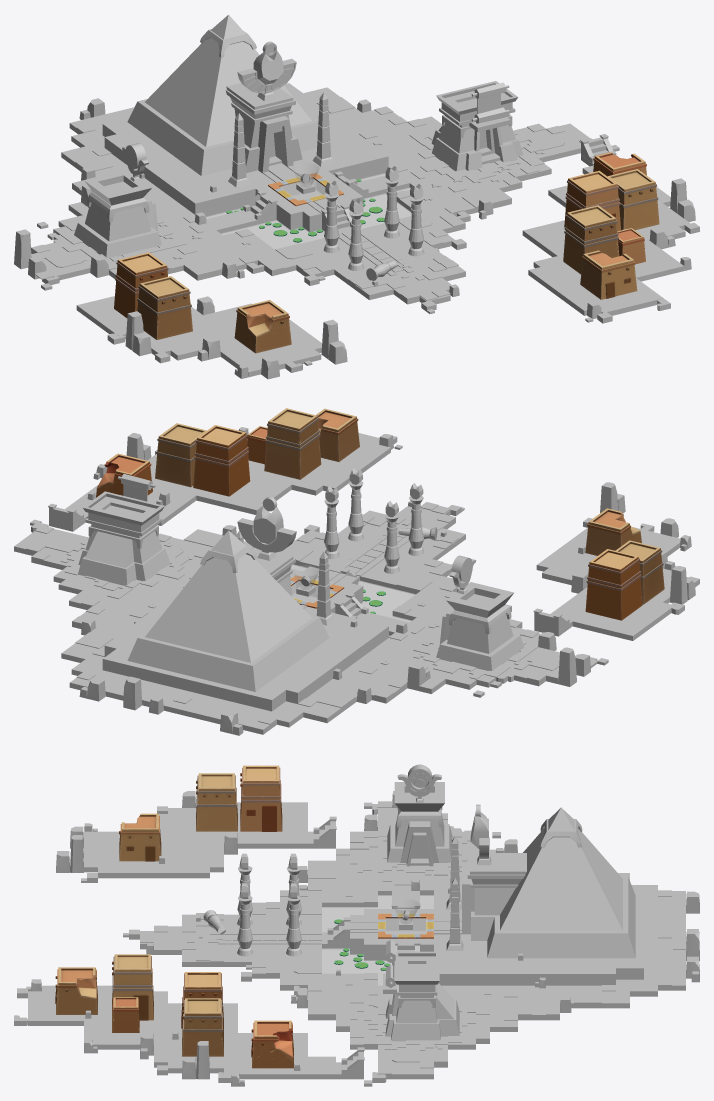
The model's file is Egypt.fbx.
3 views of the same model, one above another, from view 1: azimuth 30°, elevation 25°; view 2: azimuth 150°, elevation 25°; view 3: azimuth 270°, elevation 25° (orthographic).
Parts seen in each view (by area): view 1: nen1, Nha_Meo, NhaPhu1, O_Nen_L1, O1, Da1, Nha_Sach, Nha_Tien, Tru1, Water, CauThanh1, GachDai1 (+2 smaller); view 2: nen1, Nha_Meo, NhaPhu1, O_Nen_L1, O1, Da1, Nha_Sach, Nha_Tien, Tru1, CauThanh1, Water, GachDai1; view 3: nen1, Nha_Meo, NhaPhu1, O_Nen_L1, O1, Da1, Nha_Sach, Nha_Tien, Tru1, Water, CauThanh1, GachDai1 (+1 smaller).
Boxes of the visible parts, left/top/right/bottom form: nen1: left=31, top=83, right=690, bottom=377; Nha_Meo: left=127, top=14, right=318, bottom=175; NhaPhu1: left=114, top=152, right=659, bottom=353; O_Nen_L1: left=31, top=97, right=592, bottom=300; O1: left=102, top=90, right=388, bottom=232; Da1: left=14, top=98, right=699, bottom=379; Nha_Sach: left=431, top=81, right=523, bottom=171; Nha_Tien: left=74, top=143, right=161, bottom=258; Tru1: left=228, top=92, right=424, bottom=280; Water: left=206, top=173, right=411, bottom=249; CauThanh1: left=243, top=134, right=616, bottom=228; GachDai1: left=263, top=165, right=401, bottom=275; nen1: left=14, top=433, right=680, bottom=734; Nha_Meo: left=127, top=497, right=329, bottom=691; NhaPhu1: left=96, top=408, right=664, bottom=620; O_Nen_L1: left=26, top=502, right=597, bottom=724; O1: left=102, top=566, right=388, bottom=711; Da1: left=30, top=427, right=699, bottom=735; Nha_Sach: left=78, top=474, right=170, bottom=585; Nha_Tien: left=436, top=555, right=524, bottom=670; Tru1: left=235, top=468, right=437, bottom=625; CauThanh1: left=48, top=503, right=569, bottom=631; Water: left=291, top=564, right=415, bottom=636; GachDai1: left=300, top=536, right=409, bottom=608; nen1: left=28, top=802, right=685, bottom=1079; Nha_Meo: left=462, top=804, right=635, bottom=958; NhaPhu1: left=55, top=765, right=293, bottom=1068; O_Nen_L1: left=140, top=801, right=686, bottom=1074; O1: left=350, top=879, right=643, bottom=985; Da1: left=14, top=775, right=699, bottom=1086; Nha_Sach: left=383, top=940, right=459, bottom=1041; Nha_Tien: left=387, top=764, right=452, bottom=866; Tru1: left=203, top=836, right=463, bottom=956; Water: left=322, top=895, right=433, bottom=985; CauThanh1: left=313, top=816, right=420, bottom=1074; GachDai1: left=210, top=918, right=461, bottom=944.
Bounding box in the file's own units: 478 × 109 × 490.
